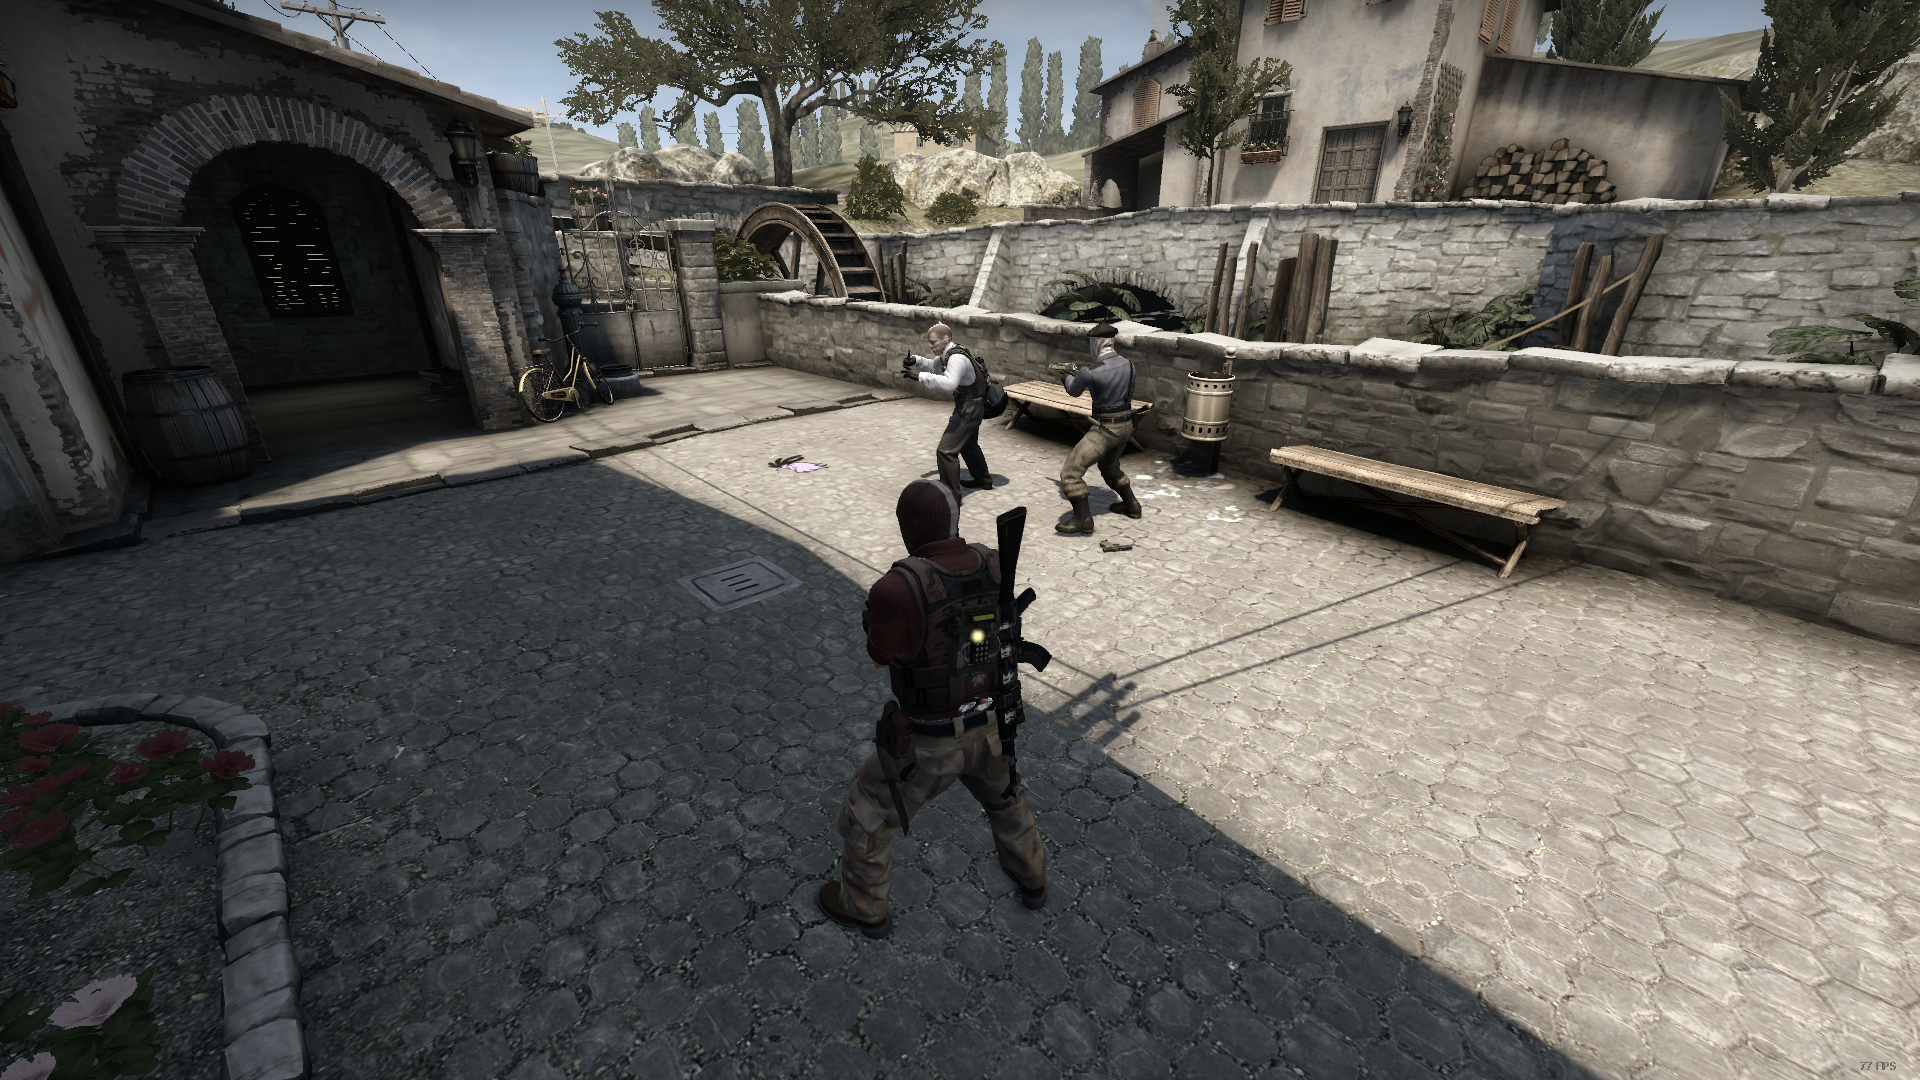t: (1051, 326, 1145, 537)
